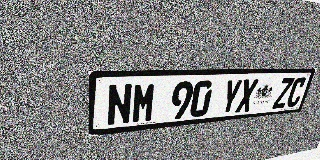0: (189, 80, 214, 118)
9: (169, 81, 195, 120)
C: (285, 77, 307, 108)
M: (131, 82, 157, 124)
N: (107, 83, 133, 126)
X: (235, 79, 259, 113)
Y: (219, 79, 243, 115)
Z: (272, 78, 295, 109)
